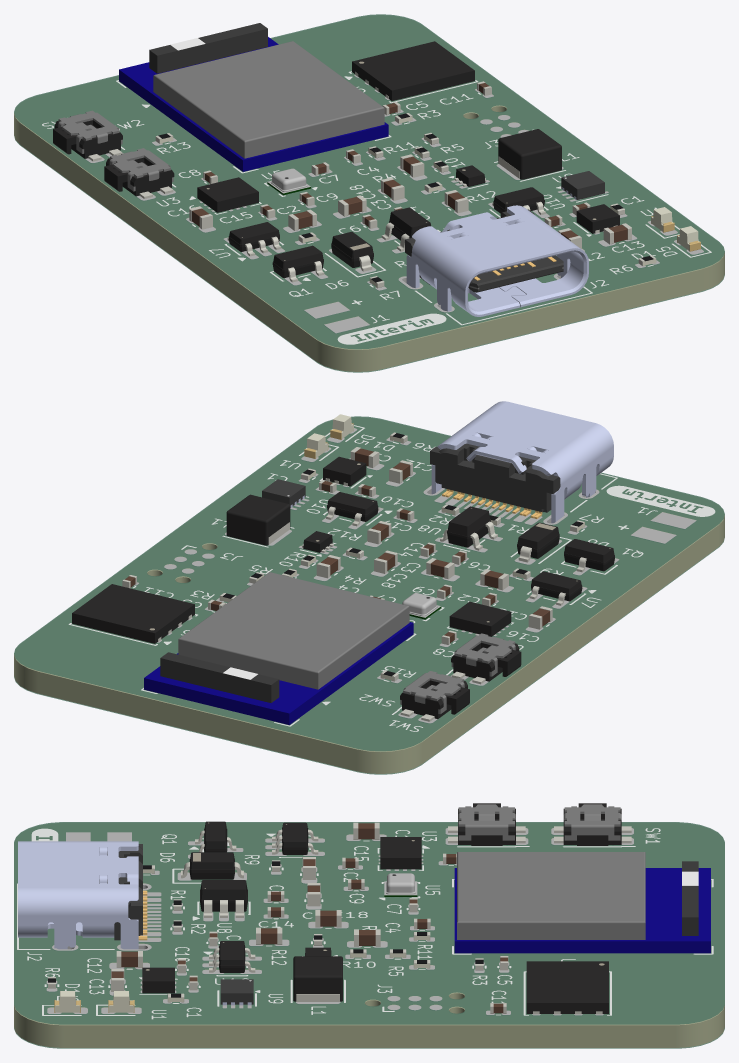
The model's file is interim.glb.
The picture shows the model from 3 angles, top to bottom: view 1: azimuth 30°, elevation 25°; view 2: azimuth 150°, elevation 25°; view 3: azimuth 270°, elevation 25°; orthographic projection. The views are drawn at different scales.
Visible parts, largest first — view 1: Interim_PCB, Interim_Mask_Front, U2, J2, Interim_Silk_Front, U6, Interim_Pads, SW2, SW1, L1, U3, Q1 (+8 smaller); view 2: Interim_PCB, Interim_Mask_Front, U2, J2, Interim_Silk_Front, Interim_Pads, U6, SW2, SW1, L1, U8, U3 (+8 smaller); view 3: Interim_PCB, Interim_Mask_Front, U2, J2, Interim_Pads, Interim_Silk_Front, U6, SW1, SW2, L1, U8, D6 (+15 smaller).
Boxes of the visible parts, x1,y1,x2,y2 form: Interim_PCB: (14, 15, 724, 371); Interim_Mask_Front: (14, 14, 724, 349); U2: (119, 23, 388, 171); J2: (405, 205, 588, 316); Interim_Silk_Front: (42, 71, 711, 344); U6: (352, 41, 474, 100); Interim_Pads: (85, 75, 703, 333); SW2: (104, 148, 174, 198); SW1: (53, 110, 122, 161); L1: (498, 129, 561, 179); U3: (197, 177, 258, 212); Q1: (272, 245, 324, 282); Interim_PCB: (14, 417, 724, 773); Interim_Mask_Front: (14, 416, 724, 751); U2: (144, 572, 413, 724); J2: (430, 401, 613, 523); Interim_Silk_Front: (68, 425, 715, 731); Interim_Pads: (134, 428, 696, 723); U6: (72, 584, 194, 643); SW2: (451, 633, 521, 684); SW1: (400, 671, 469, 721); L1: (226, 494, 290, 545); U8: (440, 506, 497, 550); U3: (449, 601, 511, 636); Interim_PCB: (14, 823, 724, 1047); Interim_Mask_Front: (14, 822, 724, 1024); U2: (454, 852, 710, 953); J2: (18, 841, 147, 949); Interim_Pads: (46, 828, 633, 1015); Interim_Silk_Front: (17, 828, 713, 1019); U6: (526, 961, 608, 1014); SW1: (554, 803, 631, 845); SW2: (448, 803, 525, 845); L1: (293, 956, 342, 1001); U8: (200, 880, 247, 917); D6: (181, 852, 243, 879).
Size of the model in its own units: 0.029 by 0.00674 by 0.043.
